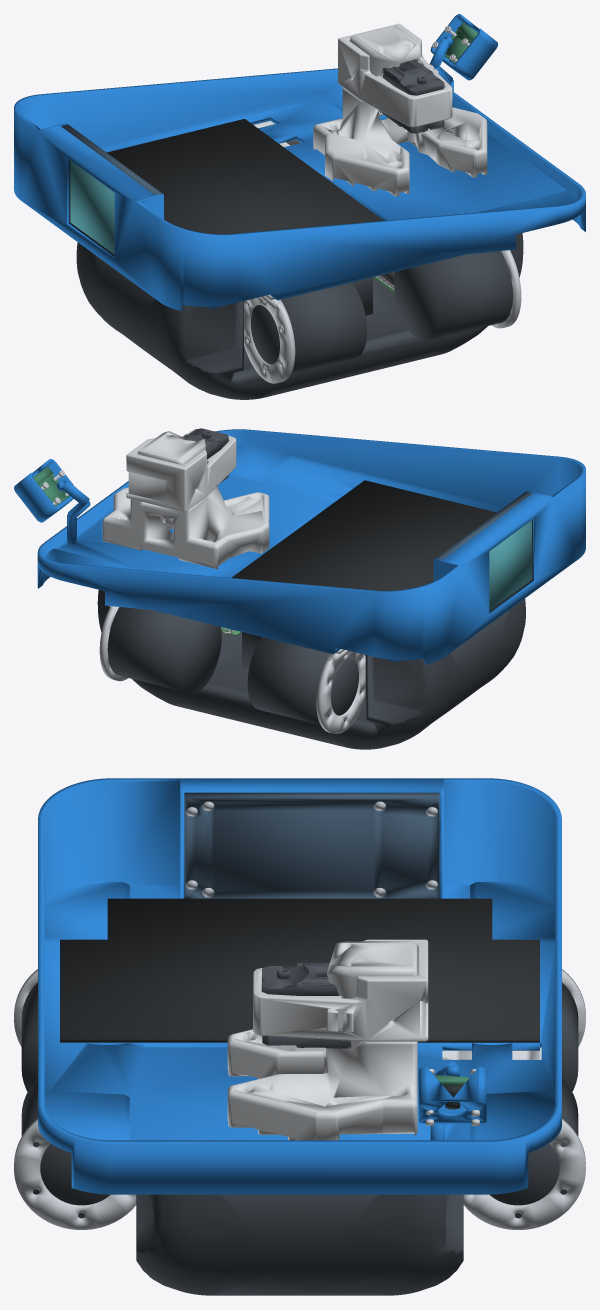
The model's file is chassis.glb.
3 views of the same model, one above another, from view 1: azimuth 30°, elevation 25°; view 2: azimuth 150°, elevation 25°; view 3: azimuth 270°, elevation 25° (orthographic). The views are drawn at different scales.
Parts seen in each view (by area): view 1: chassis_0, chassis_1, chassis_2, chassis_4, chassis_3, chassis_11, chassis_5, chassis_15, chassis_6; view 2: chassis_0, chassis_1, chassis_2, chassis_4, chassis_3, chassis_11, chassis_15, chassis_5, chassis_6, chassis_8; view 3: chassis_0, chassis_2, chassis_1, chassis_4, chassis_15, chassis_3, chassis_5, chassis_14.
Part boxes in pixels (left/top/right/bottom): chassis_0: left=14, top=14, right=585, bottom=311; chassis_1: left=76, top=233, right=523, bottom=399; chassis_2: left=107, top=119, right=383, bottom=234; chassis_4: left=313, top=23, right=487, bottom=196; chassis_3: left=244, top=25, right=521, bottom=383; chassis_11: left=70, top=160, right=114, bottom=254; chassis_5: left=379, top=59, right=444, bottom=133; chassis_15: left=61, top=124, right=162, bottom=195; chassis_6: left=444, top=22, right=478, bottom=63; chassis_0: left=14, top=429, right=585, bottom=664; chassis_1: left=97, top=590, right=525, bottom=749; chassis_2: left=231, top=480, right=496, bottom=590; chassis_4: left=102, top=429, right=269, bottom=569; chassis_3: left=41, top=470, right=365, bottom=733; chassis_11: left=489, top=520, right=531, bottom=610; chassis_15: left=435, top=492, right=532, bottom=559; chassis_5: left=183, top=428, right=228, bottom=482; chassis_6: left=33, top=466, right=69, bottom=506; chassis_8: left=242, top=632, right=261, bottom=668; chassis_0: left=38, top=778, right=561, bottom=1194; chassis_2: left=60, top=898, right=539, bottom=1042; chassis_1: left=21, top=982, right=578, bottom=1295; chassis_4: left=227, top=939, right=428, bottom=1140; chassis_15: left=184, top=792, right=439, bottom=898; chassis_3: left=14, top=969, right=585, bottom=1229; chassis_5: left=262, top=963, right=351, bottom=1048; chassis_14: left=186, top=801, right=437, bottom=897.
Bounding box in the file's own units: 0.3248 × 0.17 × 0.262.
